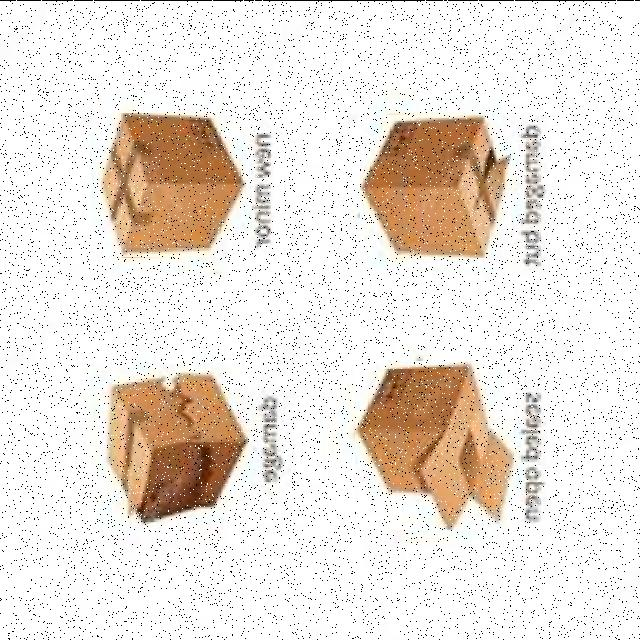defect: (355, 360, 514, 529), (105, 369, 248, 522), (360, 114, 511, 257)
normal: (97, 112, 245, 256)
